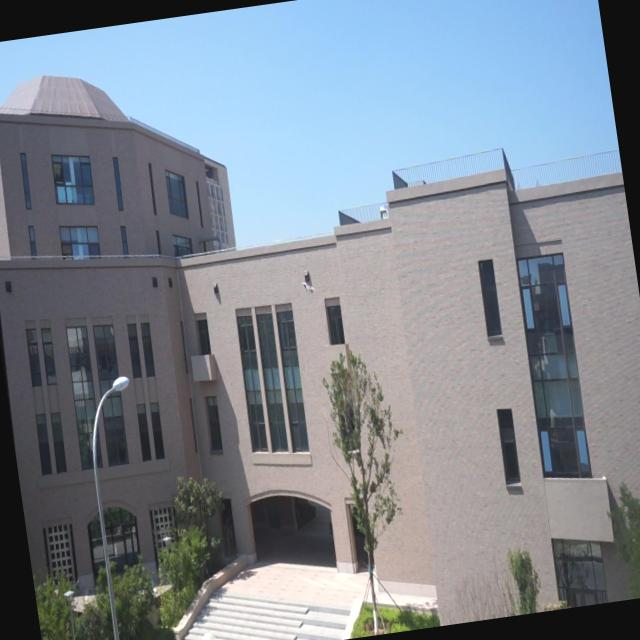drone: (302, 280, 316, 300)
